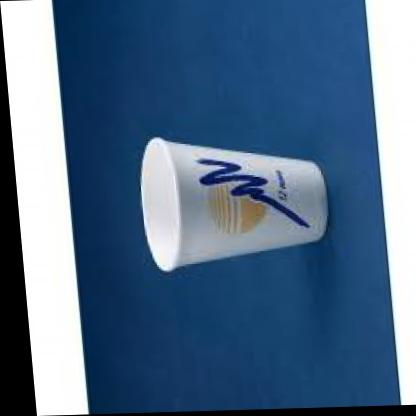Plastic: (124, 122, 349, 280)
